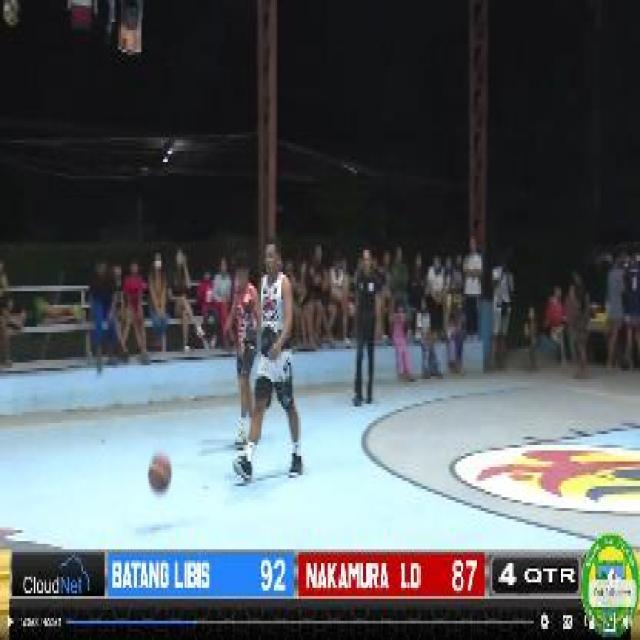ball: (144, 452, 176, 498)
